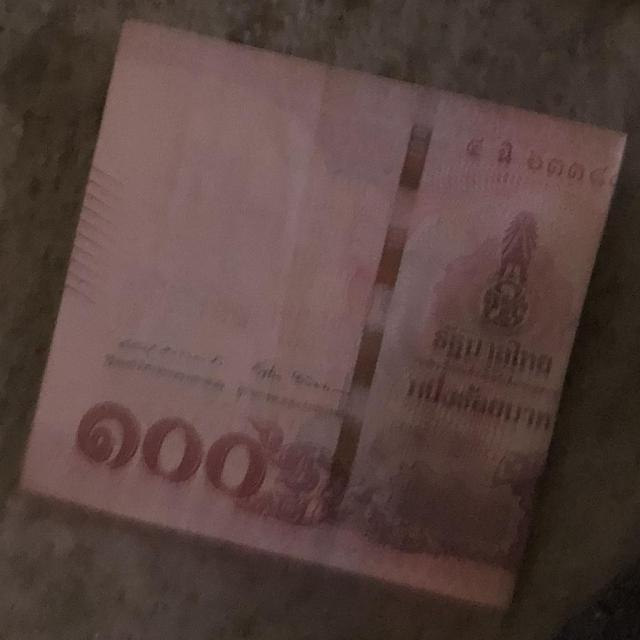THAI100: (22, 22, 625, 606)
